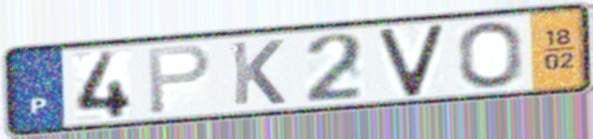2: (302, 31, 367, 106)
4: (71, 48, 136, 121)
K: (228, 38, 289, 108)
O: (454, 20, 527, 91)
P: (145, 42, 215, 118)
V: (375, 20, 448, 100)
